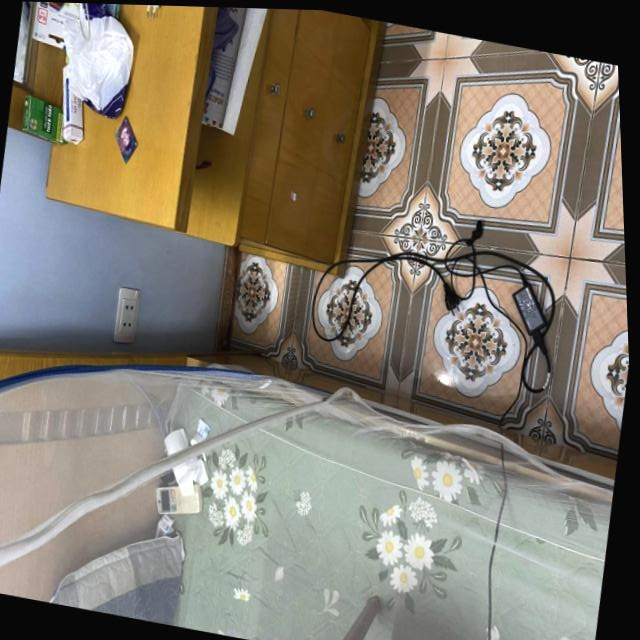outlet: (110, 286, 144, 348)
